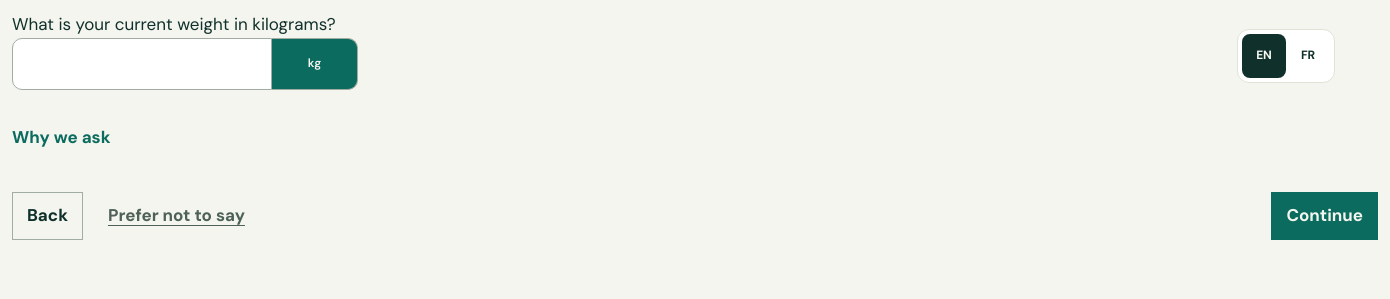
Test: keeps an impossible weight_kg answer on screen with a described error
In the number field: (142, 64) x1=12 y1=38 x2=272 y2=90, type "-20"
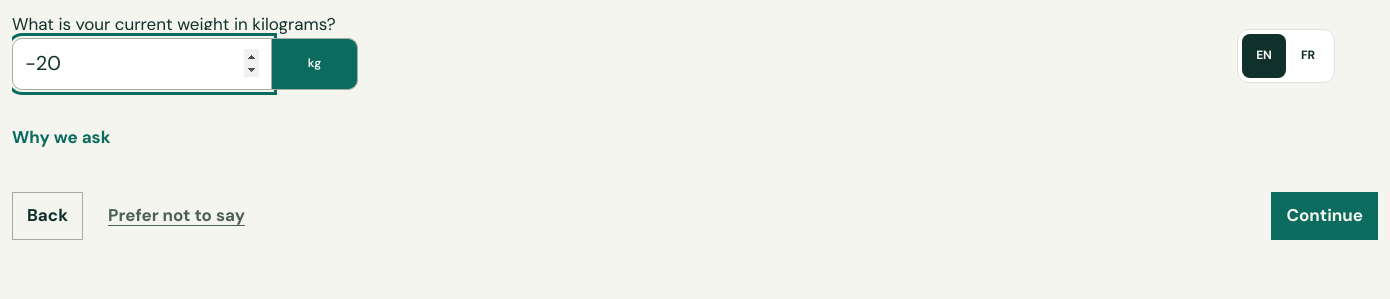
Click the button "Continue": (1325, 216) x1=1271 y1=192 x2=1378 y2=240
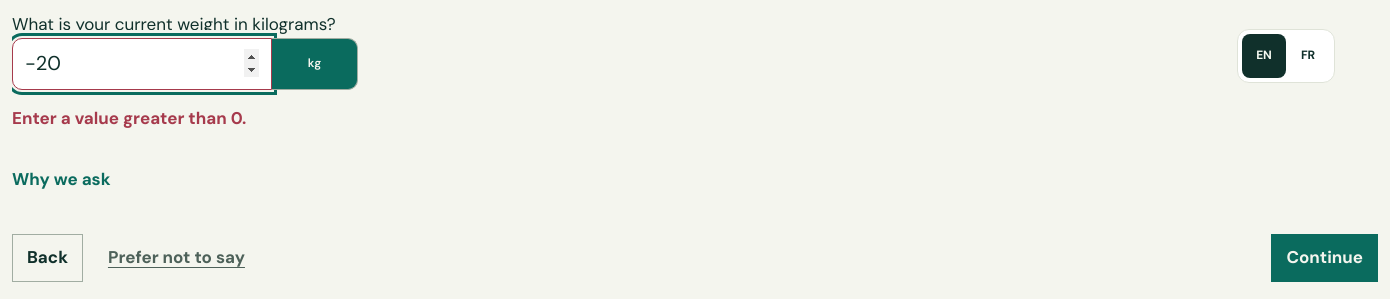
Check: the message "Enter a value greater than 0." is shown, box x1=12 y1=106 x2=246 y2=128
